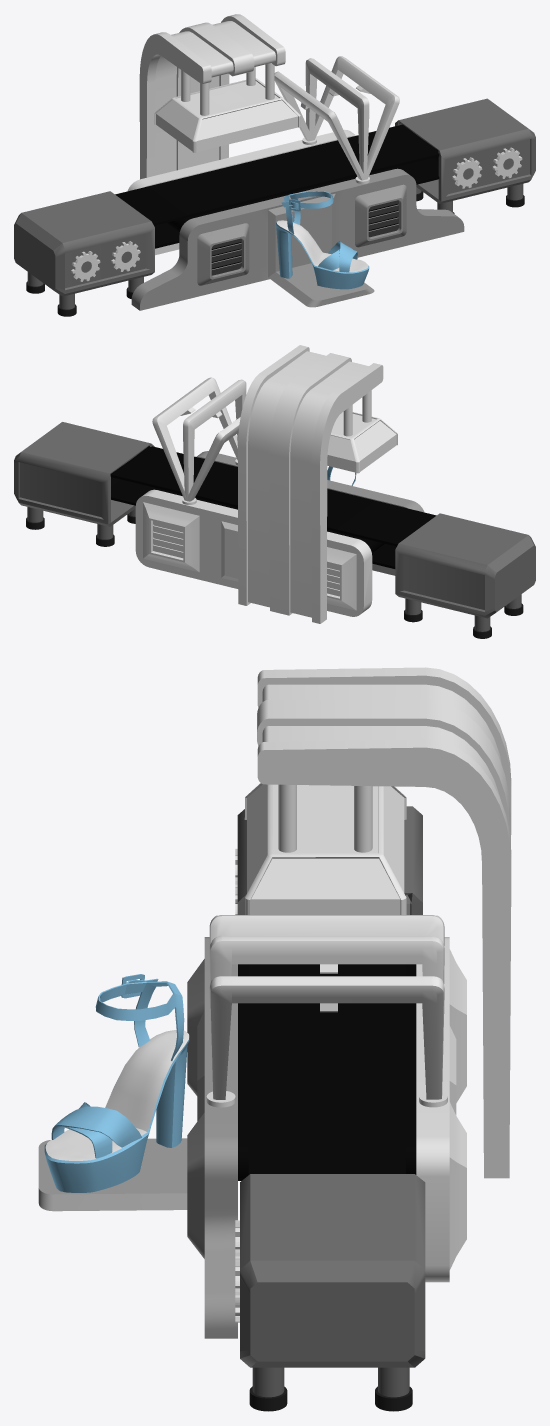
Rendered from ayakkabmak4.fbx.
3 views of the same model, one above another, from view 1: azimuth 30°, elevation 25°; view 2: azimuth 150°, elevation 25°; view 3: azimuth 270°, elevation 25° (orthographic). The views are drawn at different scales.
Parts seen in each view (by area): view 1: Cube.078, Circle.167, Plane.014, Circle.196, Circle.213, Cylinder.199, taban.003, Cube.083, Cube.082, Cube.080, Cube.081, bilek.003 (+8 smaller); view 2: Plane.014, Cube.080, Circle.196, Circle.213, Circle.167, Cylinder.199, Cube.083, Cube.082, Cube.078, Cube.081, Circle.168, Cylinder.212 (+3 smaller); view 3: Plane.014, Circle.213, Circle.167, Cube.078, Cylinder.199, Cube.080, taban.003, Cube.083, Cube.082, Cube.081, Circle.168, Circle.196 (+6 smaller).
Boxes of the visible parts, box(x1,y1,x2,y2) form: Cube.078: box(131, 168, 464, 310); Circle.167: box(115, 124, 439, 248); Plane.014: box(139, 14, 285, 179); Circle.196: box(14, 191, 154, 296); Circle.213: box(395, 98, 535, 203); Cylinder.199: box(154, 78, 300, 152); taban.003: box(276, 220, 369, 289); Cube.083: box(311, 56, 399, 179); Cube.082: box(305, 58, 369, 179); Cube.080: box(127, 129, 355, 255); Cube.081: box(274, 71, 363, 180); bilek.003: box(281, 191, 333, 234); Plane.014: box(238, 345, 383, 623); Cube.080: box(135, 489, 372, 616); Circle.196: box(395, 513, 535, 618); Circle.213: box(14, 422, 154, 526); Circle.167: box(110, 446, 436, 568); Cylinder.199: box(327, 412, 397, 473); Cube.083: box(152, 377, 237, 500); Cube.082: box(183, 379, 246, 500); Cube.078: box(196, 451, 424, 575); Cube.081: box(187, 417, 240, 501); Circle.168: box(153, 488, 384, 552); Cylinder.212: box(404, 598, 422, 622); Plane.014: box(257, 667, 511, 1178); Circle.213: box(240, 1174, 425, 1367); Circle.167: box(248, 895, 405, 1174); Cube.078: box(38, 937, 237, 1338); Cylinder.199: box(244, 783, 406, 914); Cube.080: box(416, 937, 466, 1282); taban.003: box(44, 1030, 189, 1192); Cube.083: box(209, 976, 444, 1099); Cube.082: box(209, 936, 444, 983); Cube.081: box(209, 915, 444, 946); Circle.168: box(238, 964, 416, 1180); Circle.196: box(237, 806, 422, 914).
Bounding box in the file's own units: 1410 × 604 × 601.
